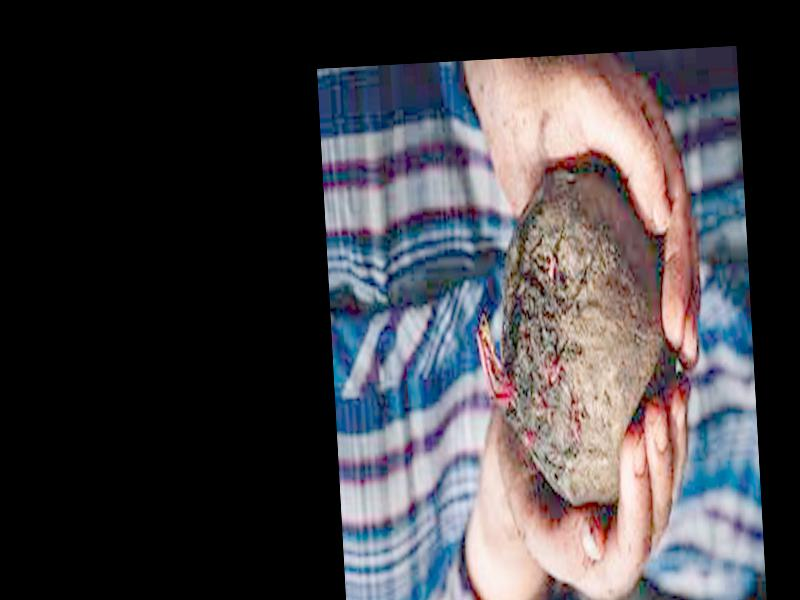Beet: (466, 160, 675, 509)
